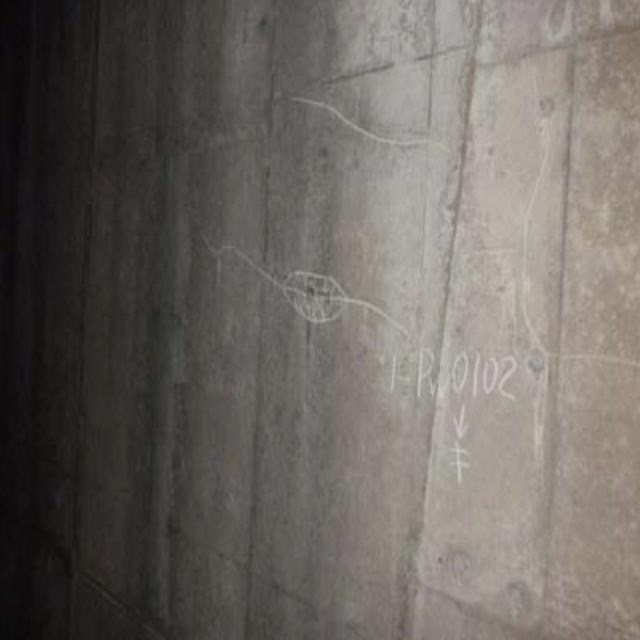freelime: (270, 264, 357, 334)
